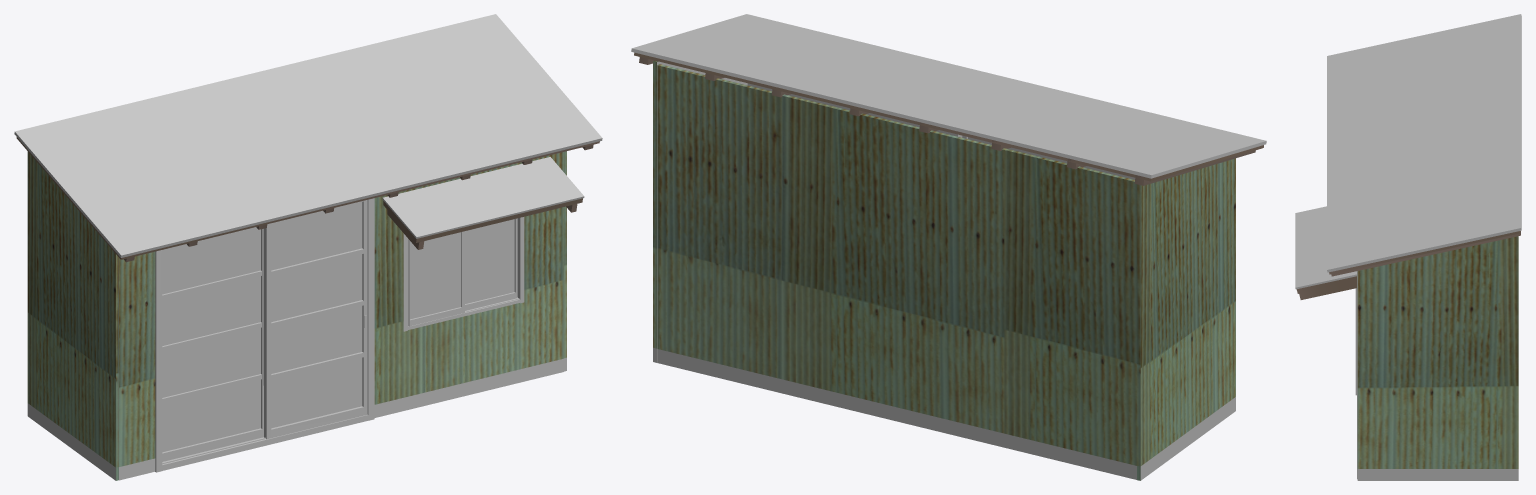
File: JpHouse_Garage03b.fbx
The picture shows the model from 3 angles, left to right: view 1: azimuth 30°, elevation 25°; view 2: azimuth 150°, elevation 25°; view 3: azimuth 270°, elevation 25°; orthographic projection. The views are drawn at different scales.
Parts seen in each view (by area): view 1: JpHouse_Garage03b; view 2: JpHouse_Garage03b; view 3: JpHouse_Garage03b.
Part boxes in pixels (x1,y1,x2,y2): JpHouse_Garage03b: (14,14,602,480); JpHouse_Garage03b: (631,14,1266,480); JpHouse_Garage03b: (1295,14,1521,480).
Bounding box in the file's own units: 5.68 × 3.24 × 2.54.
